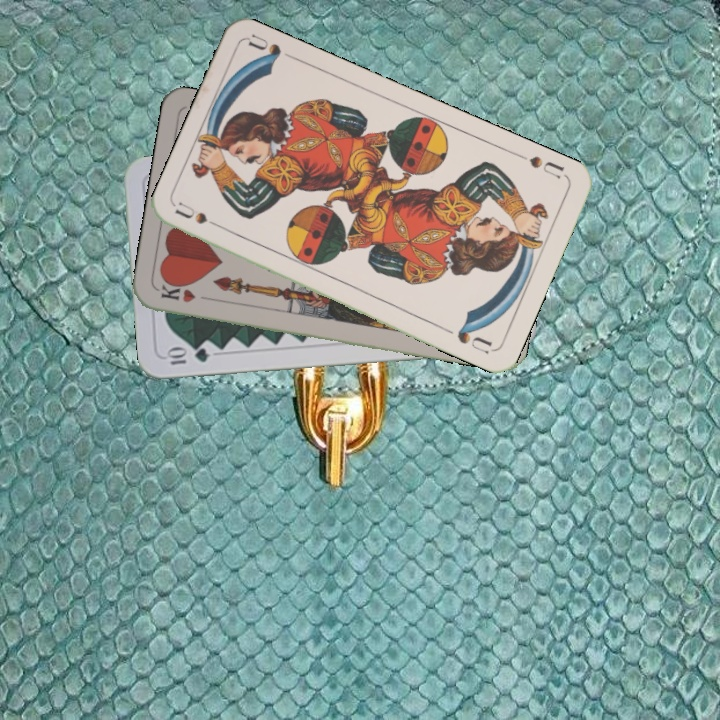G10: (162, 344, 212, 368)
HK: (156, 280, 215, 305)
SU: (172, 199, 230, 233), (525, 151, 567, 181)
